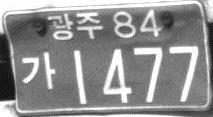1: (70, 47, 89, 106)
4: (101, 47, 132, 103), (138, 8, 161, 39)
7: (167, 44, 200, 103), (132, 45, 163, 103)
8: (111, 8, 136, 39)
가: (20, 50, 57, 91)
광주_O: (46, 10, 103, 41)
